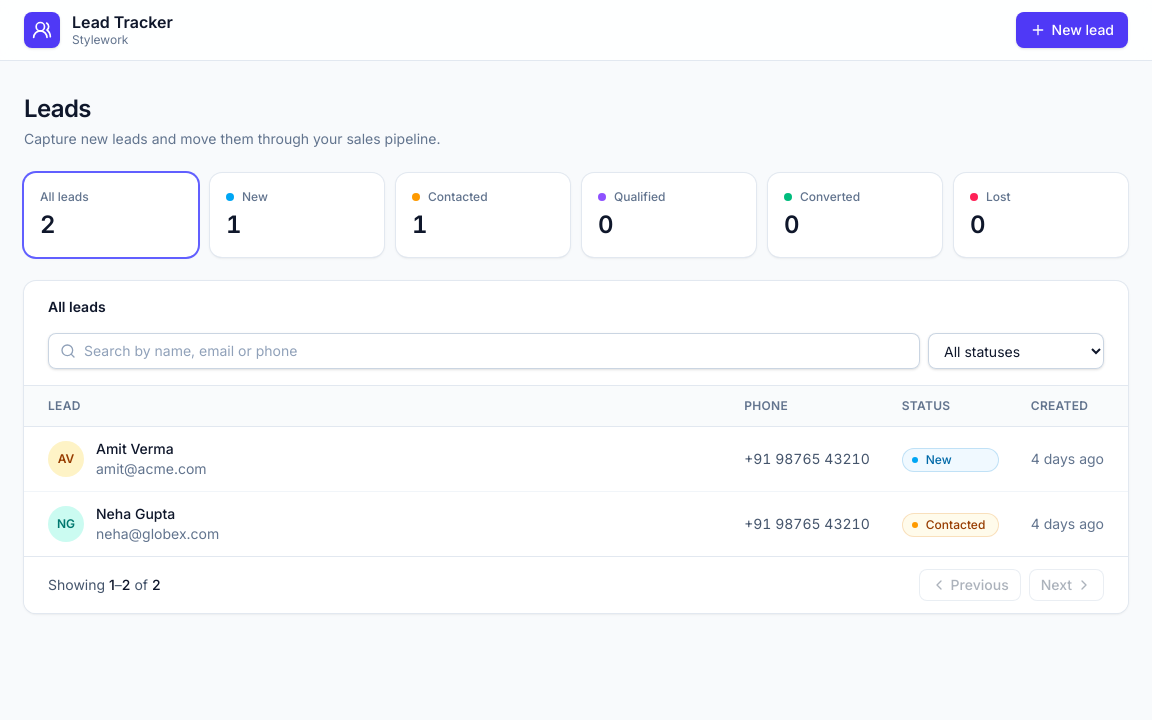
Test: App › updates a lead status via PATCH and confirms with a toast
The width and height of the screenshot is (1152, 720).
Select "Qualified" in the dropdown named "Status for Amit Verma": (950, 460) [902,448,999,472]
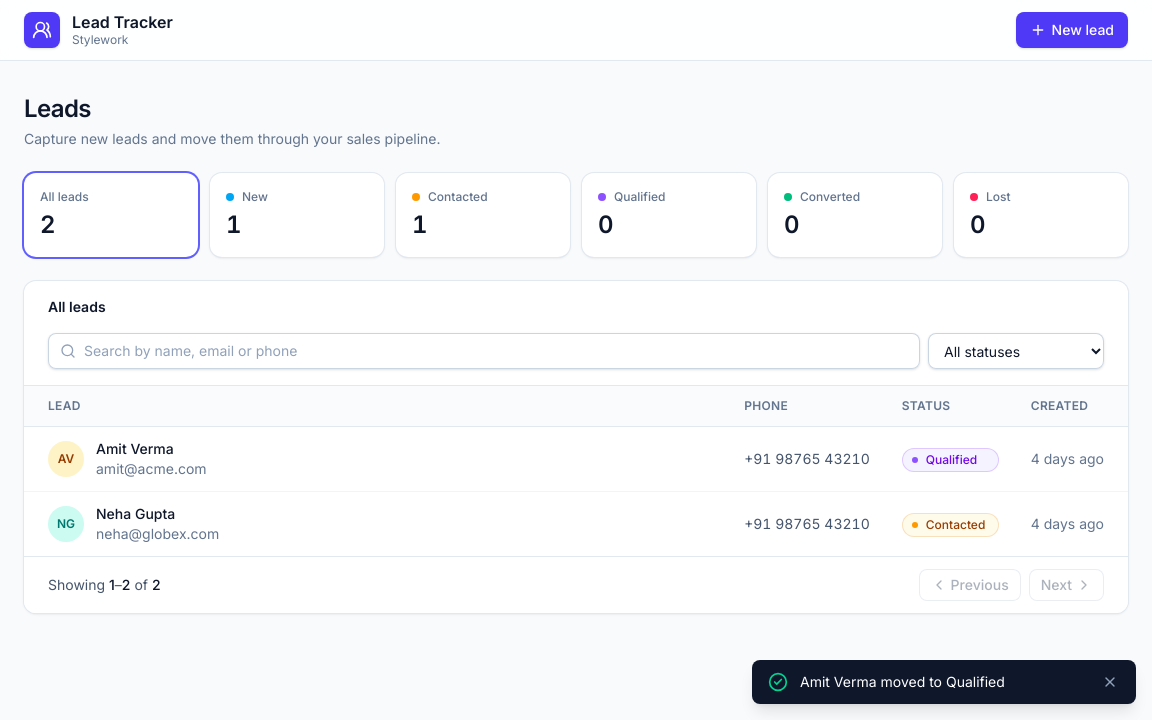
Check: the text "Amit Verma moved to Qualified" is shown, box [800,673,1005,690]
